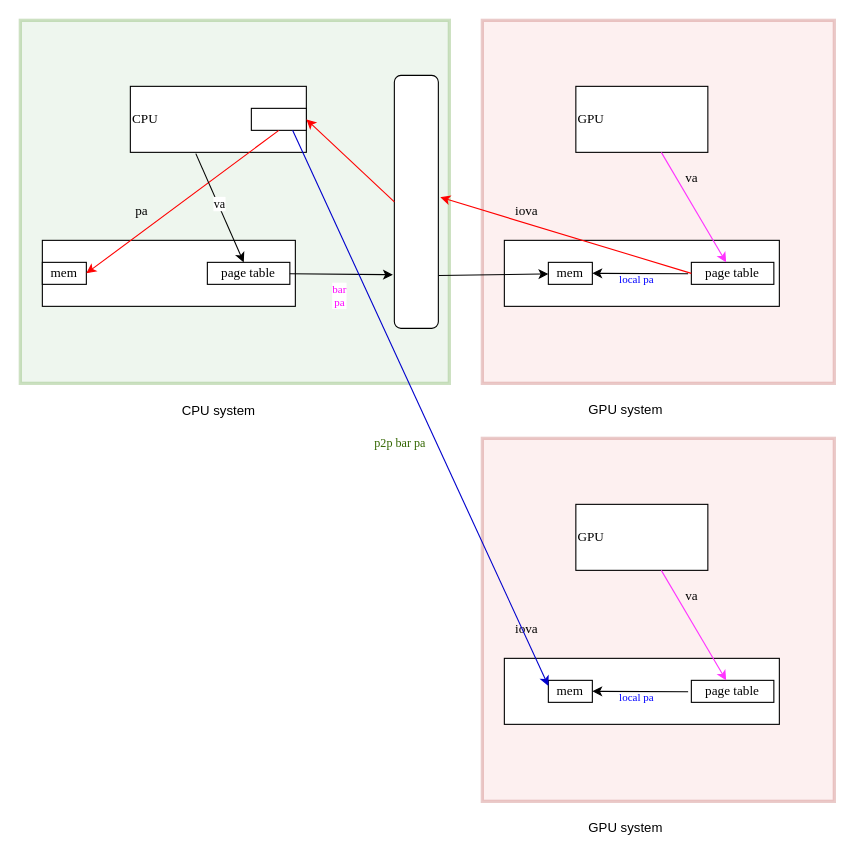
This 855x864 diagram has some shape labels left out. The centre of each missing label's shape, as x and y in pixels:
"IOMMU" belongs at point 278,118.
"PCIE" belongs at point 415,201.
